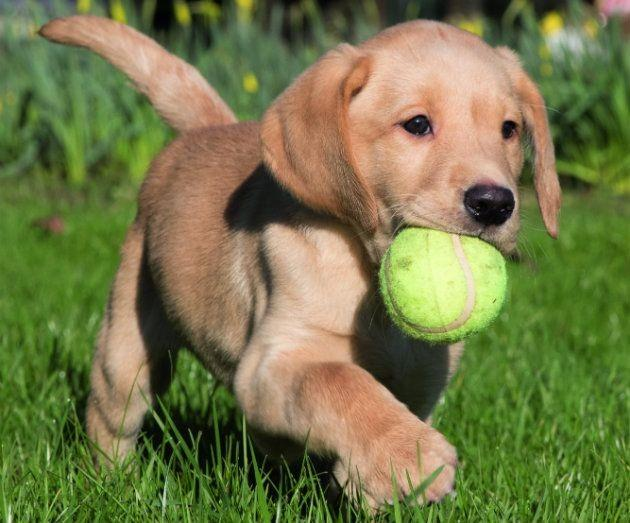puppy-dog: (39, 15, 563, 513)
